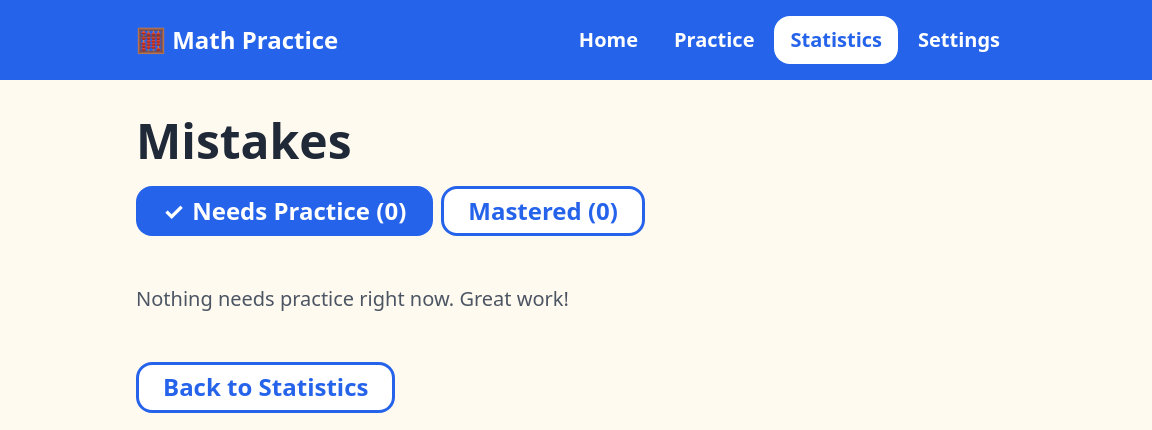
MistakesPage › has empty states for each view
Expected: the text "Nothing needs practice right now. Great work!" is shown, [136,285,569,312]
Click the button "Mastered (0)". click: click(543, 211)
box: [441,186,645,236]
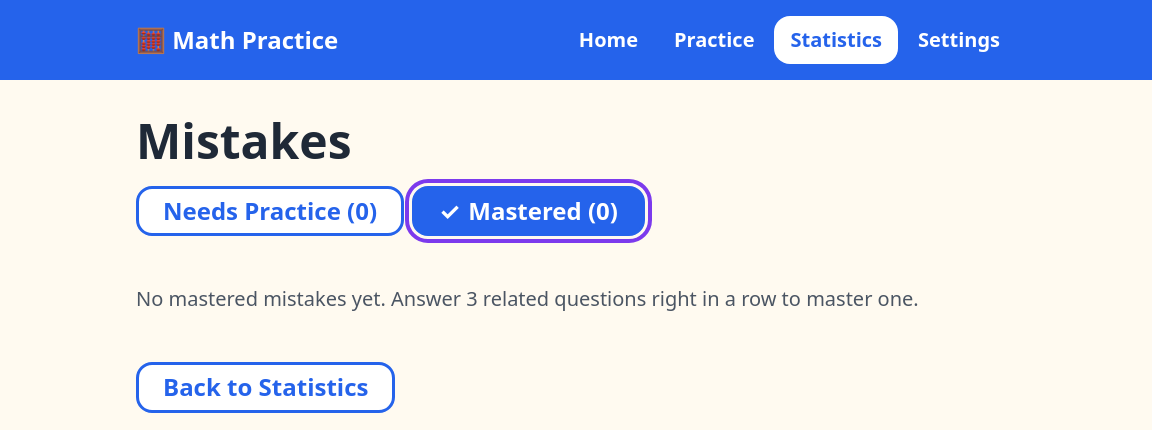
Expected: the text "No mastered mistakes yet" is shown, [136,285,919,312]
